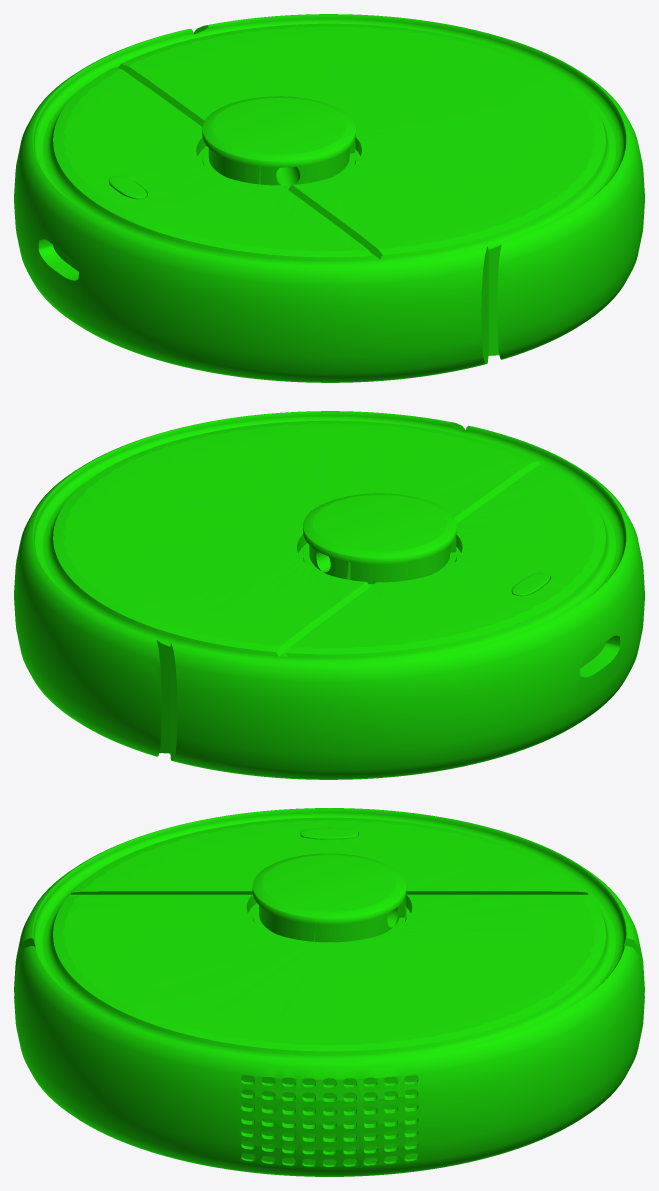
The model's file is Pylesos_Low.fbx.
The picture shows the model from 3 angles, top to bottom: view 1: azimuth 30°, elevation 25°; view 2: azimuth 150°, elevation 25°; view 3: azimuth 270°, elevation 25°; orthographic projection.
Visible parts, largest first — view 1: Cylinder.009, Cylinder.007, Cylinder.006, Cube.007; view 2: Cylinder.009, Cylinder.007, Cylinder.006, Cube.007; view 3: Cylinder.009, Cylinder.007, Cylinder.006, Cube.007.
Boxes of the visible parts, x1,y1,x2,y2 form: Cylinder.009: (14, 14, 644, 382); Cylinder.007: (202, 96, 355, 189); Cylinder.006: (208, 148, 349, 187); Cube.007: (109, 175, 146, 199); Cylinder.009: (14, 411, 644, 779); Cylinder.007: (303, 493, 456, 586); Cylinder.006: (309, 545, 450, 584); Cube.007: (512, 572, 549, 596); Cylinder.009: (14, 808, 644, 1176); Cylinder.007: (252, 853, 406, 941); Cylinder.006: (259, 905, 399, 942); Cube.007: (300, 828, 358, 839).
Bounding box in the file's own units: 35.39 × 8.98 × 35.4.
